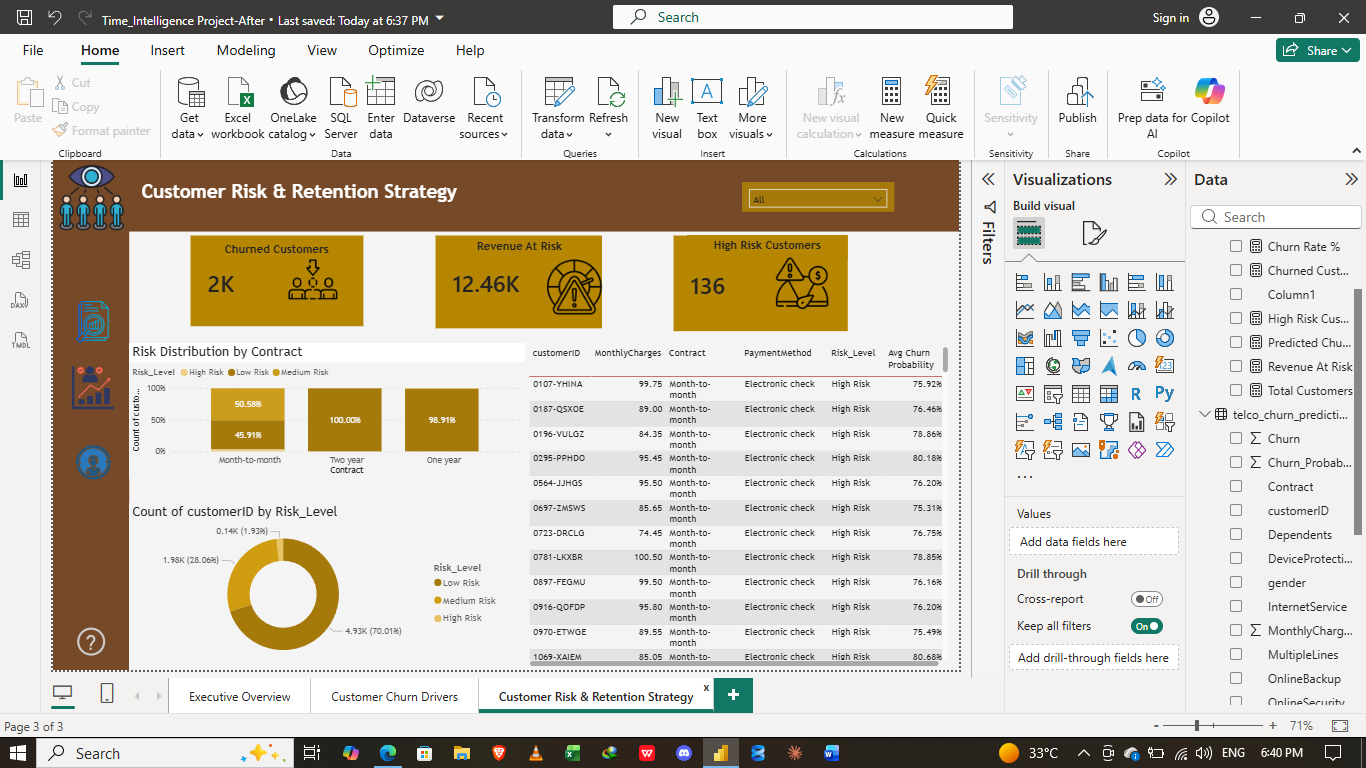

What the dashboard file says about the page in this screenshot:
{"tool":"powerbi","page":{"name":"Customer Risk & Retention Strategy","canvas":[1280,720],"ordinal":2},"visuals":[{"type":"group","id":"g1","title":"Navigator","box":[0,0,107.3,720],"z":0},{"type":"shape","box":[0,0,107.6,720.2],"z":0,"group":"g1"},{"type":"shape","box":[107.3,0,1172.7,101.5],"z":0,"group":"g2"},{"type":"group","id":"g2","title":"Header","box":[107.3,0,1172.7,101.5],"z":1000},{"type":"image","box":[19.6,198.6,72.1,58.7],"z":1000,"group":"g1"},{"type":"group","id":"g3","title":"Group 2","box":[871.1,101.6,256.9,145.4],"z":2000},{"type":"image","box":[28.1,386.9,59.9,78.3],"z":2000,"group":"g1"},{"type":"cardVisual","fields":{"Data":["DAX.Churned Customers"]},"box":[189.2,101.6,254.1,138.4],"z":3000,"group":"g4"},{"type":"image","box":[25.7,287.9,62.4,67.3],"z":3000,"group":"g1"},{"type":"donutChart","fields":{"Category":["telco_churn_predictions.Risk_Level"],"Y":["CountNonNull(telco_churn_predictions.customerID)"]},"box":[107.3,484.2,532.2,235.8],"z":3000},{"type":"image","box":[7.3,3.7,95.4,97.8],"z":4000,"group":"g1"},{"type":"textbox","box":[119.6,24,467.3,62.1],"z":4000,"group":"g2"},{"type":"hundredPercentStackedColumnChart","title":"Risk Distribution by Contract","fields":{"Category":["telco_churn_predictions.Contract"],"Y":["CountNonNull(telco_churn_predictions.customerID)"],"Series":["telco_churn_predictions.Risk_Level"]},"box":[107.3,258.4,559.1,192],"z":4000},{"type":"tableEx","fields":{"Values":["telco_churn_predictions.customerID","telco_churn_predictions.MonthlyCharges","telco_churn_predictions.Contract","telco_churn_predictions.PaymentMethod","telco_churn_predictions.Risk_Level","DAX.Avg Churn Probability"]},"box":[666.4,258.4,602.8,461.6],"z":5000},{"type":"actionButton","box":[28.1,651.8,51.4,55],"z":5000,"group":"g1"},{"type":"slicer","fields":{"Values":["telco_churn_predictions.Contract","telco_churn_predictions.PaymentMethod","telco_churn_predictions.InternetService"]},"box":[972.7,31.1,214.6,42.4],"z":6000},{"type":"cardVisual","fields":{"Data":["DAX.Revenue At Risk"]},"box":[534.4,101.6,245.6,141.2],"z":6000,"group":"g5"},{"type":"cardVisual","fields":{"Data":["DAX.High Risk Customers"]},"box":[871.1,101.6,256.9,145.4],"z":6000,"group":"g3"},{"type":"group","id":"g4","title":"Group 5","box":[189.2,101.6,254.1,138.4],"z":7000},{"type":"group","id":"g5","title":"Group 2","box":[534.4,101.6,245.6,141.2],"z":8000},{"type":"textbox","box":[895.6,105.7,226.6,32.6],"z":9000,"group":"g3"},{"type":"textbox","box":[567.6,107.4,179.3,31.1],"z":9000,"group":"g5"},{"type":"textbox","box":[212.1,111.5,208.2,31.1],"z":16000,"group":"g4"},{"type":"image","box":[312.7,134.1,107.6,69.2],"z":17000,"group":"g4"},{"type":"image","box":[999,136.9,116,74.2],"z":20000,"group":"g3"},{"type":"image","box":[693.3,139.9,83.3,79.1],"z":20000,"group":"g5"}]}

Visuals, with their boxes on the page's 1280x720 design canvas (x1, y1, x2, y2). These are canvas units, not pixel positions in the 1366x768 screenshot, which may show the page scaled, cropped or inside an application window:
"Navigator" group: region(0, 0, 107, 720)
shape: region(0, 0, 108, 720)
shape: region(107, 0, 1280, 102)
"Header" group: region(107, 0, 1280, 102)
image: region(20, 199, 92, 257)
"Group 2" group: region(871, 102, 1128, 247)
image: region(28, 387, 88, 465)
cardVisual - DAX.Churned Customers: region(189, 102, 443, 240)
image: region(26, 288, 88, 355)
donutChart - telco_churn_predictions.Risk_Level x CountNonNull(telco_churn_predictions.customerID): region(107, 484, 640, 720)
image: region(7, 4, 103, 102)
textbox: region(120, 24, 587, 86)
"Risk Distribution by Contract" hundredPercentStackedColumnChart: region(107, 258, 666, 450)
tableEx - telco_churn_predictions.customerID x telco_churn_predictions.MonthlyCharges: region(666, 258, 1269, 720)
actionButton: region(28, 652, 80, 707)
slicer - telco_churn_predictions.Contract x telco_churn_predictions.PaymentMethod: region(973, 31, 1187, 74)
cardVisual - DAX.Revenue At Risk: region(534, 102, 780, 243)
cardVisual - DAX.High Risk Customers: region(871, 102, 1128, 247)
"Group 5" group: region(189, 102, 443, 240)
"Group 2" group: region(534, 102, 780, 243)
textbox: region(896, 106, 1122, 138)
textbox: region(568, 107, 747, 138)
textbox: region(212, 112, 420, 143)
image: region(313, 134, 420, 203)
image: region(999, 137, 1115, 211)
image: region(693, 140, 777, 219)
